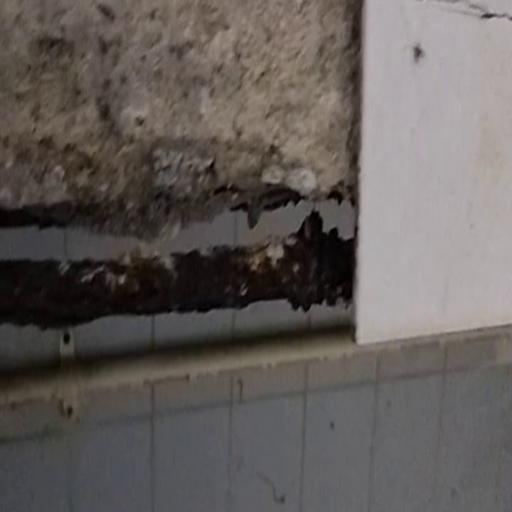spalling: (0, 0, 369, 352)
